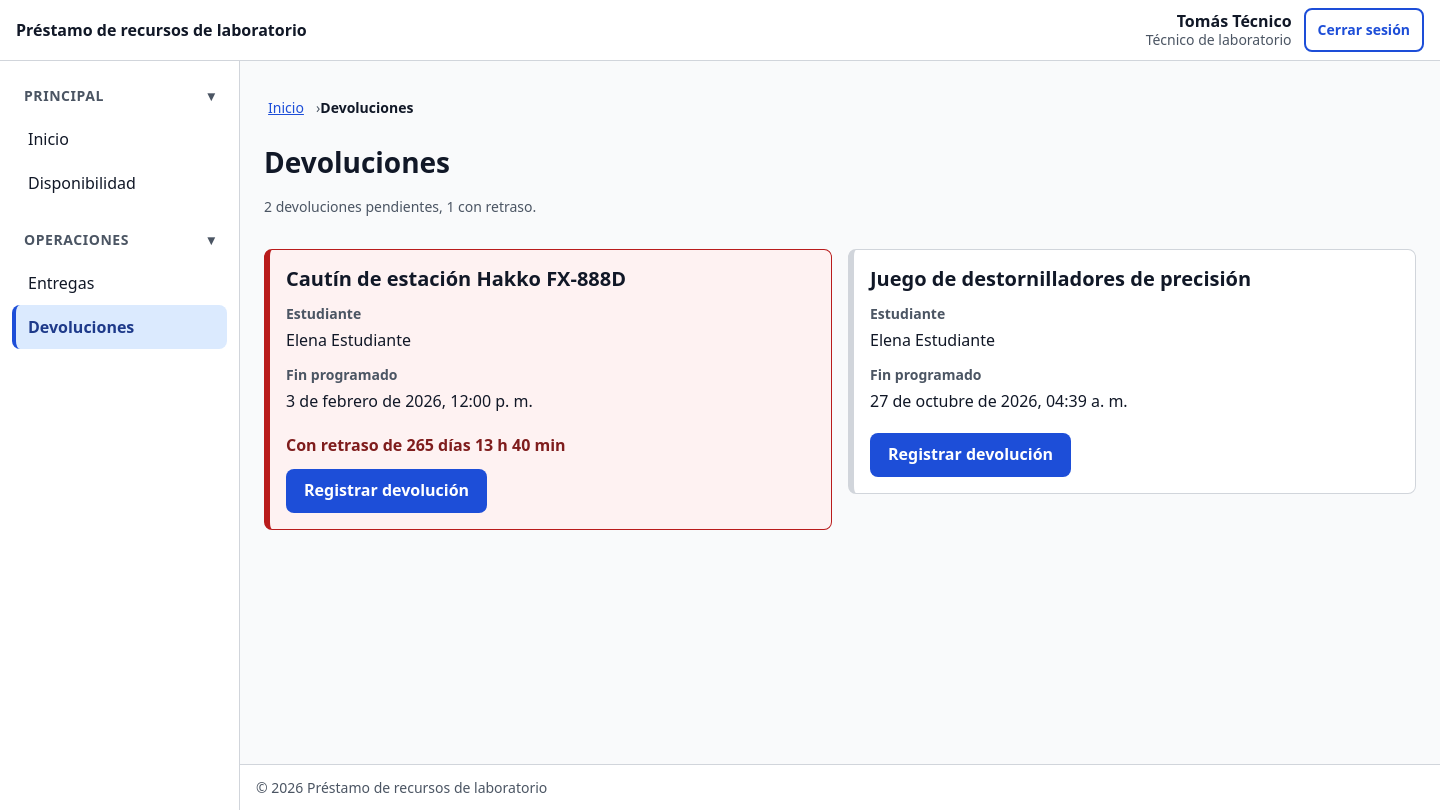
devoluciones pendientes (Req 13) › el diálogo muestra el retraso acumulado, o que está a tiempo (Req 13.8)
This screenshot has width=1440, height=810.
Click the button with aria-label "Registrar devolución: Cautín".
click(387, 491)  # box [286,469,487,513]
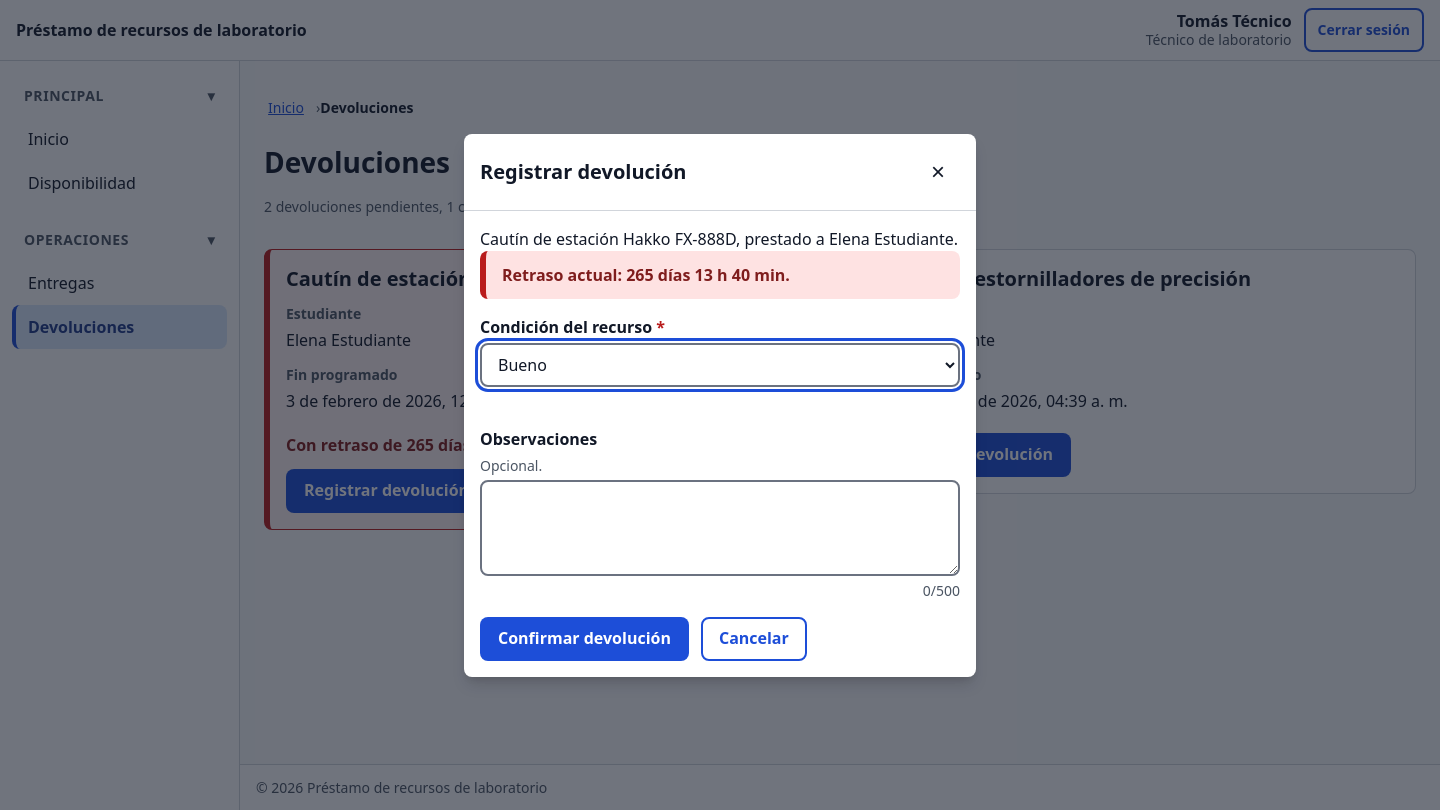
Check: the text "Retraso actual: 265 días 13 h 40 min." is shown, box [480,250,960,298]
Click the button "Cancelar".
click(754, 638)  # box [701,616,807,660]
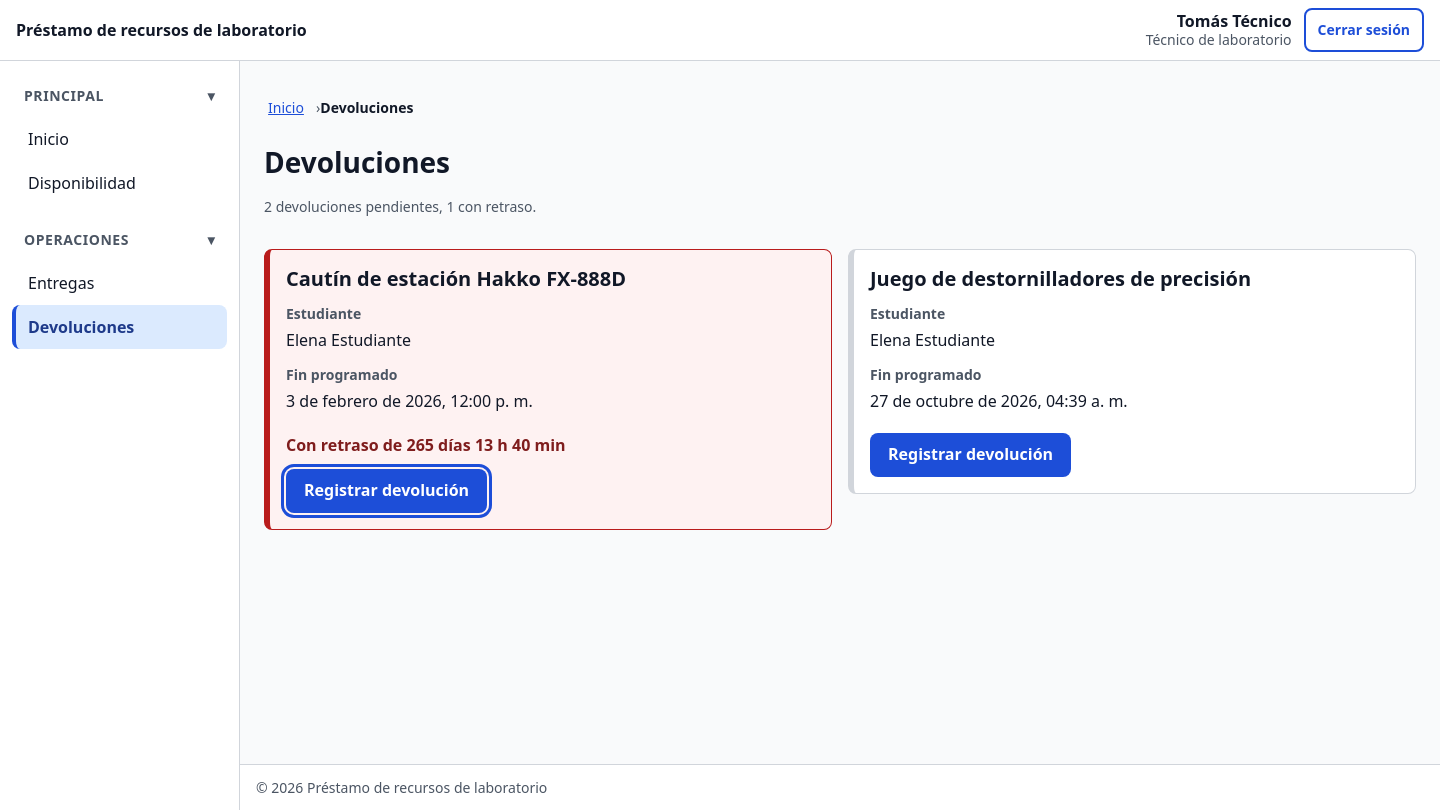
Click the button with aria-label "Registrar devolución: Juego de destornilladores".
click(971, 455)  # box [870,433,1071,477]
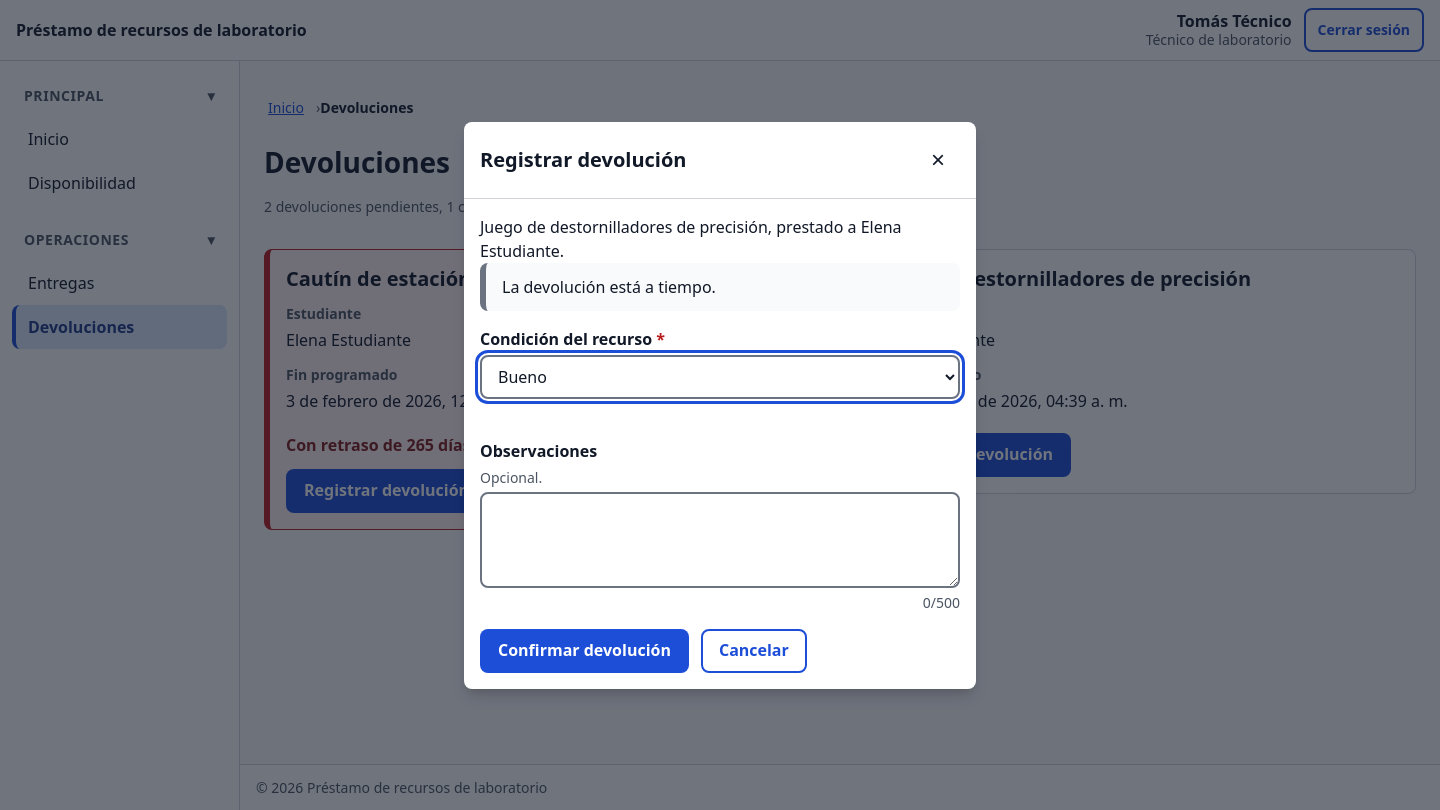
Check: the text "La devolución está a tiempo." is shown, box [480,262,960,310]
